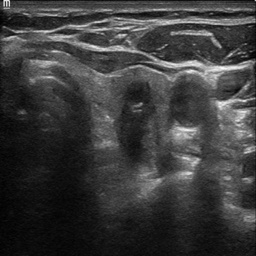mass: (117, 82, 156, 157)
